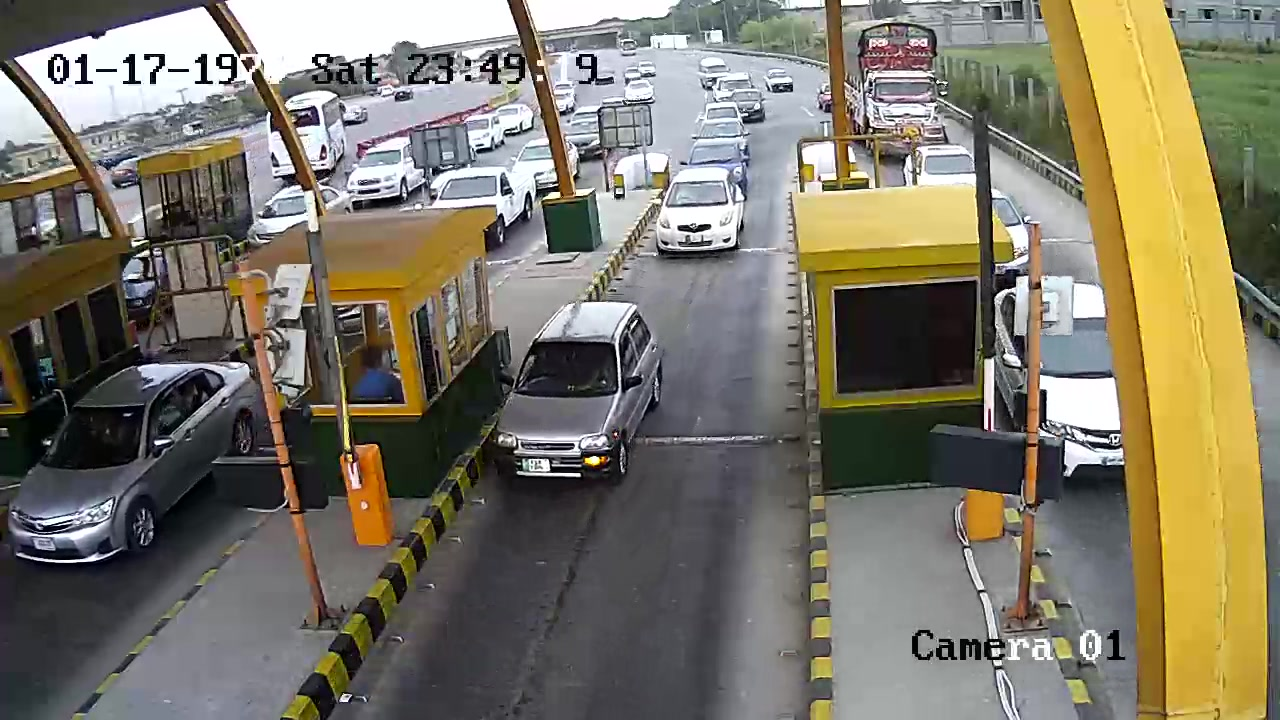F1: (491, 297, 660, 485)
